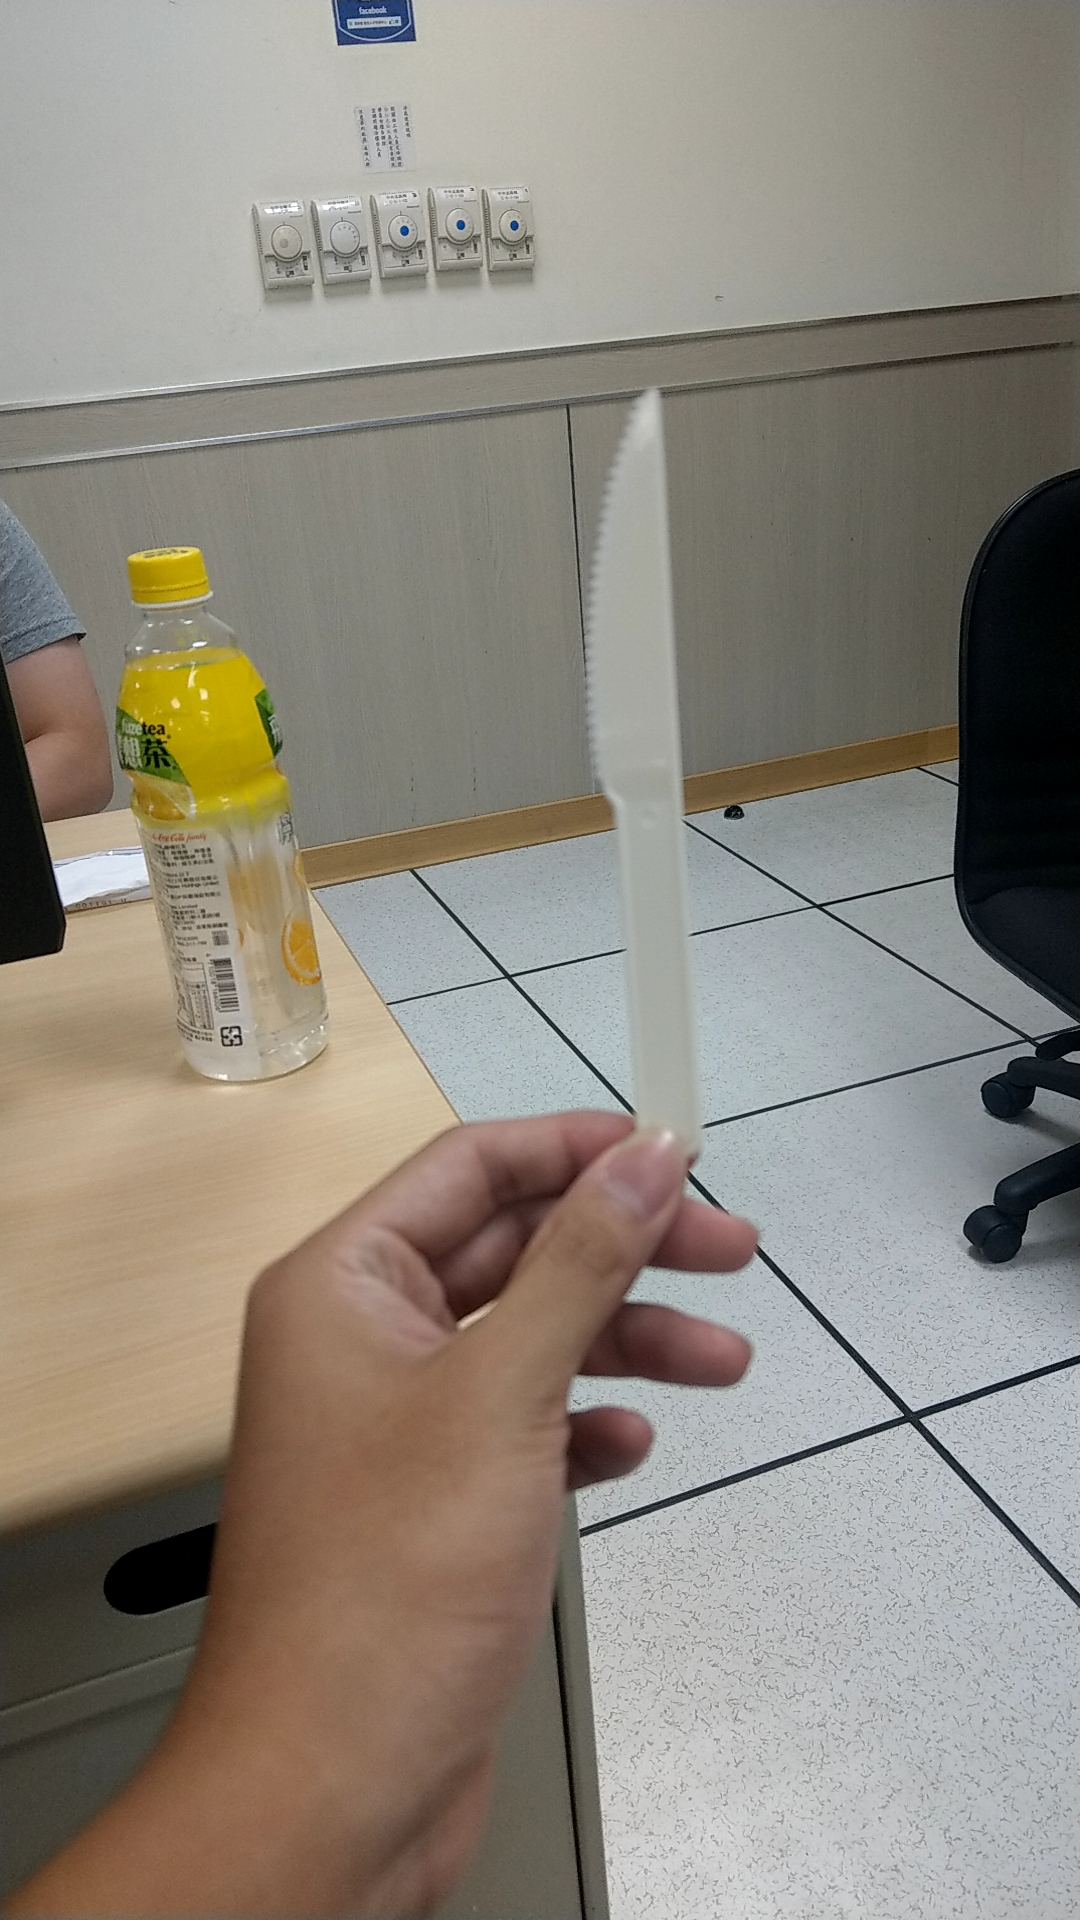knife: (558, 347, 771, 1160)
